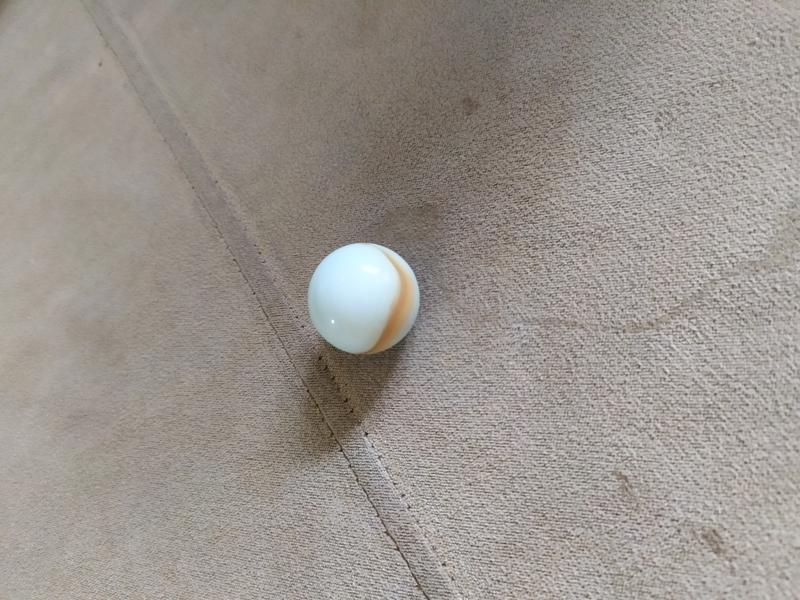Warning: (304, 239, 423, 359)
